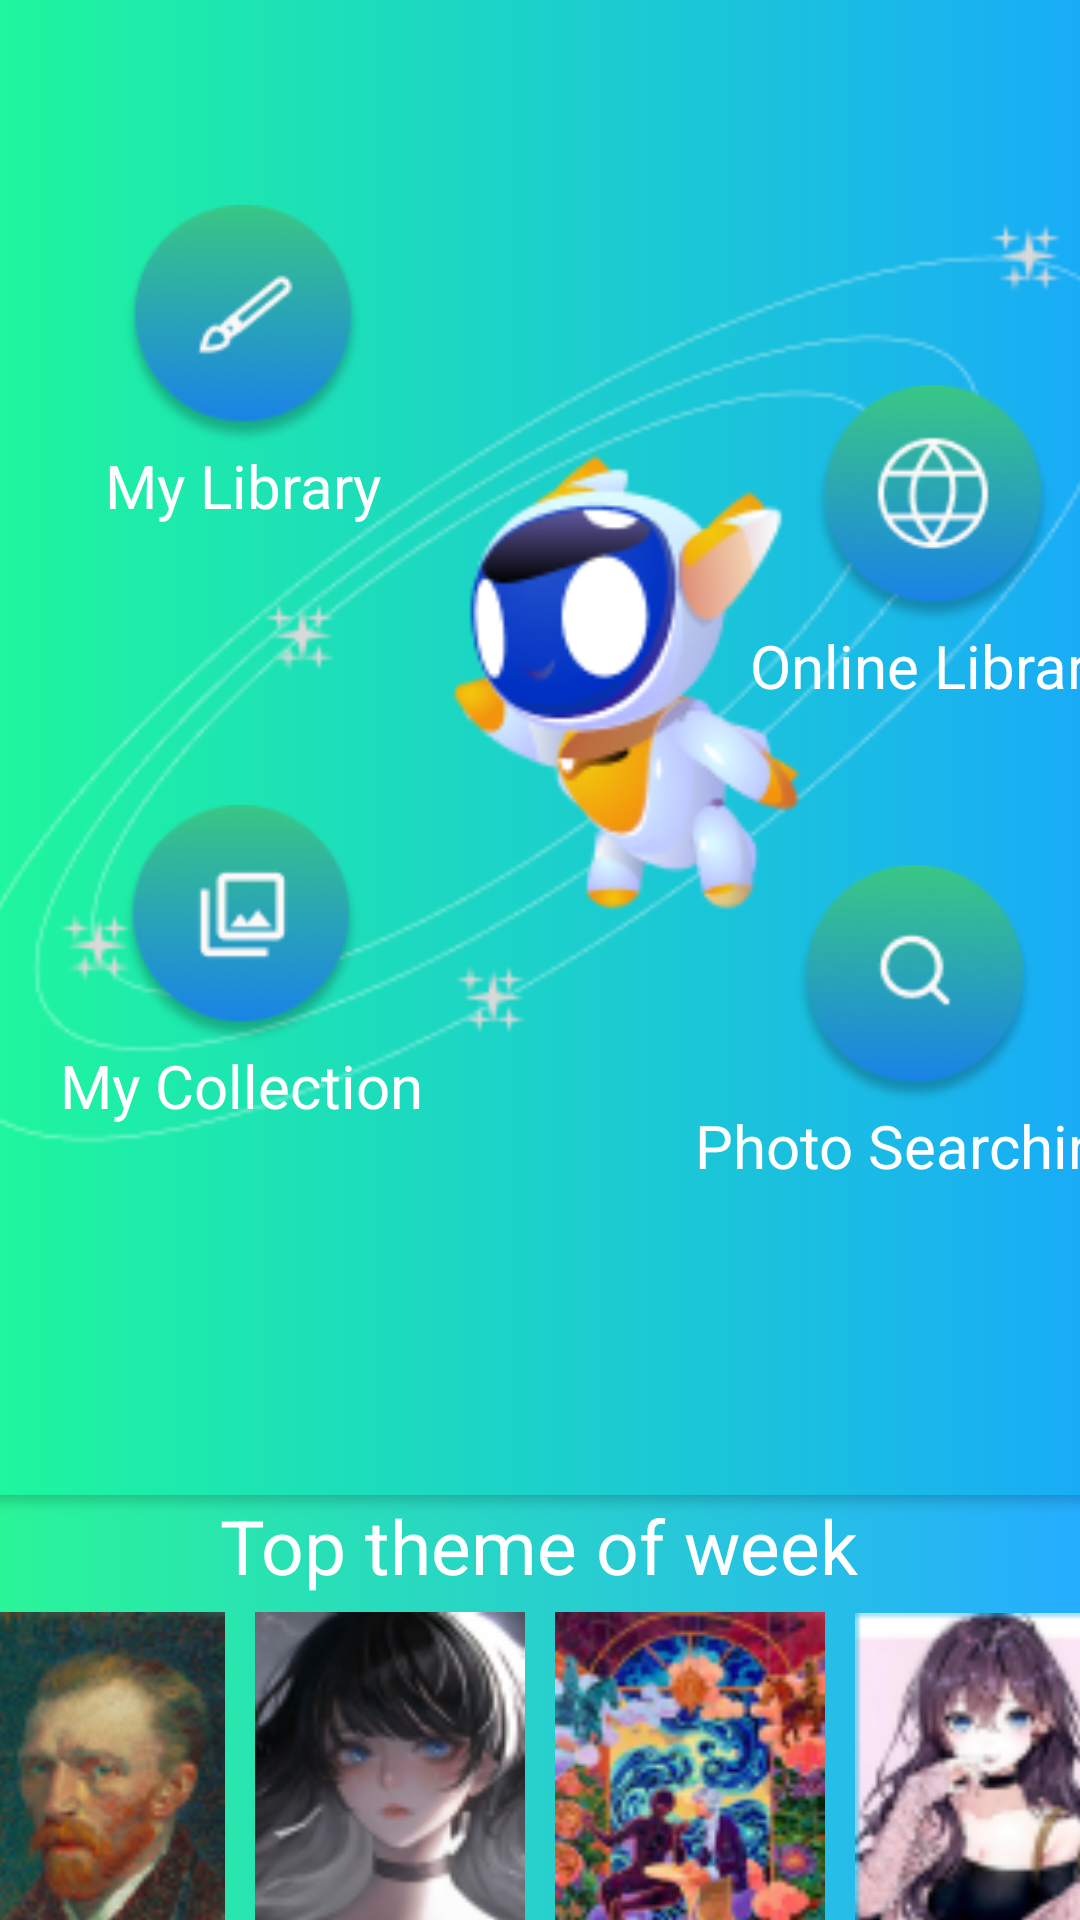

Where to tap for icons on this 1080×1920 app screen, as (x=x, y=y):
search pic: (x=911, y=980)
